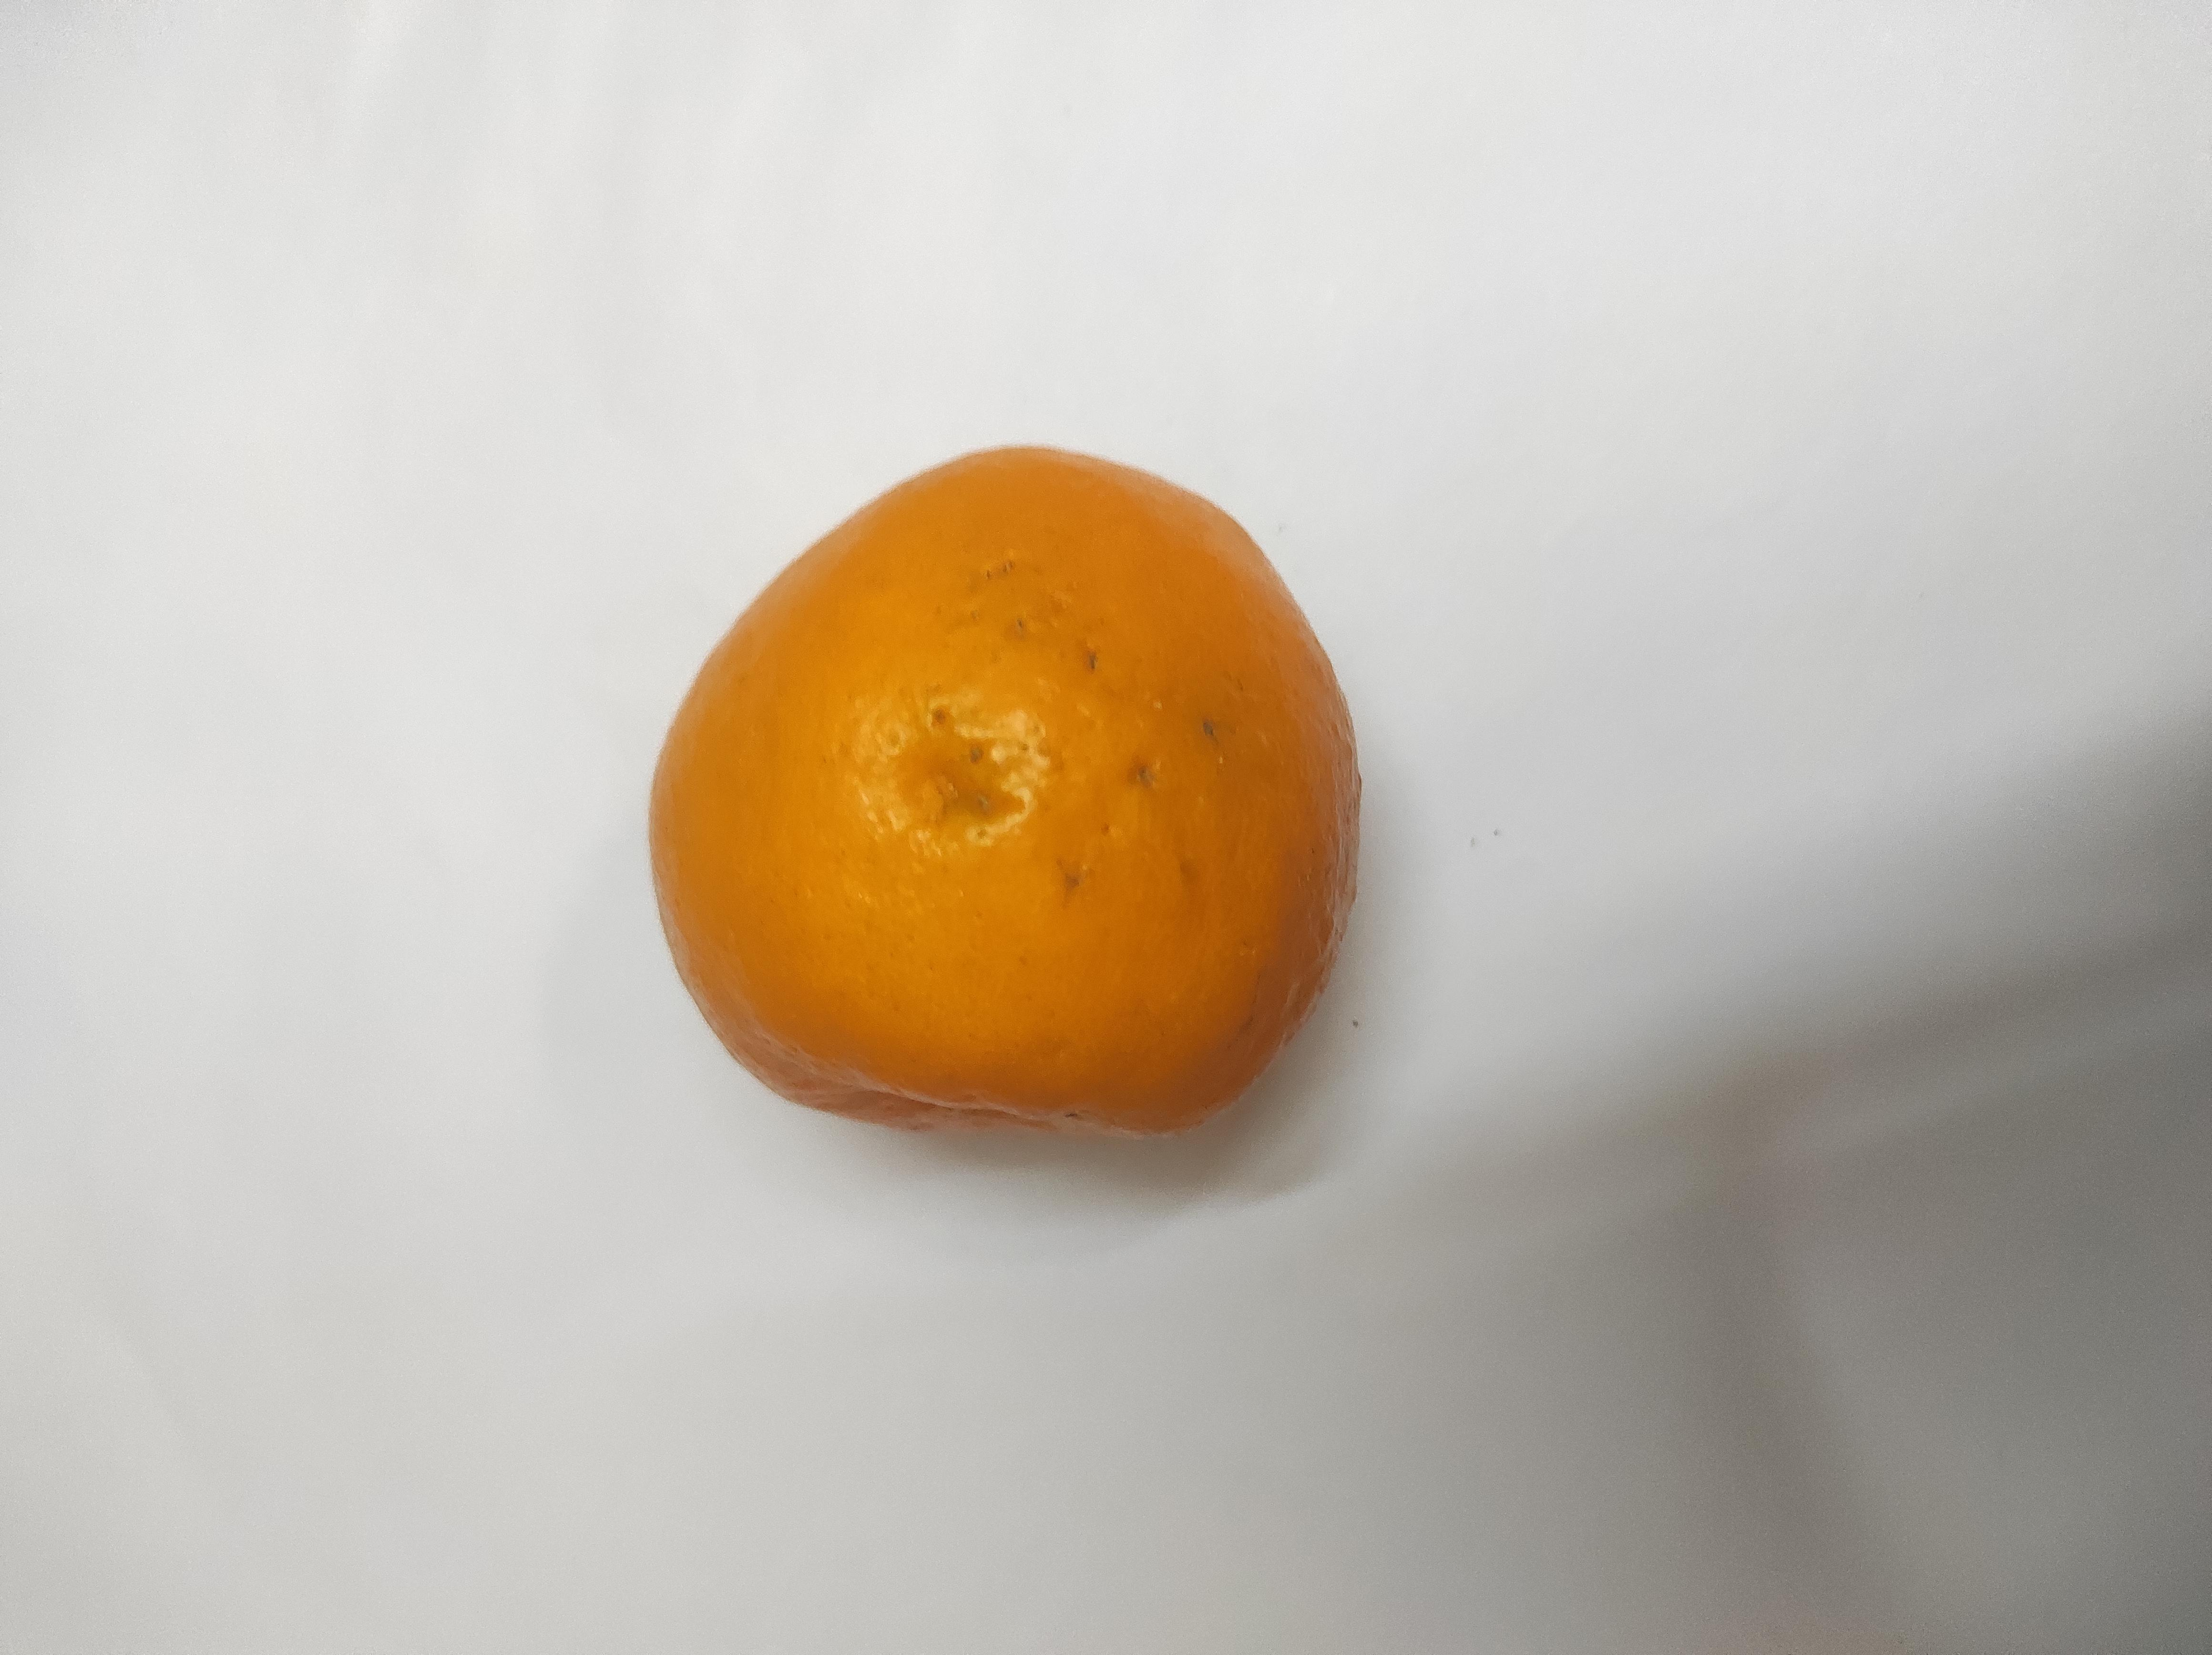Ripe: (638, 443, 1363, 1120)
